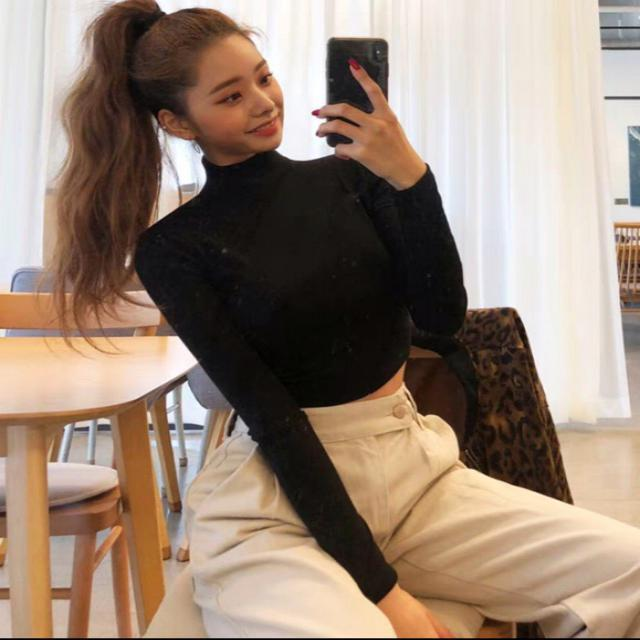Shirt: (130, 134, 477, 608)
